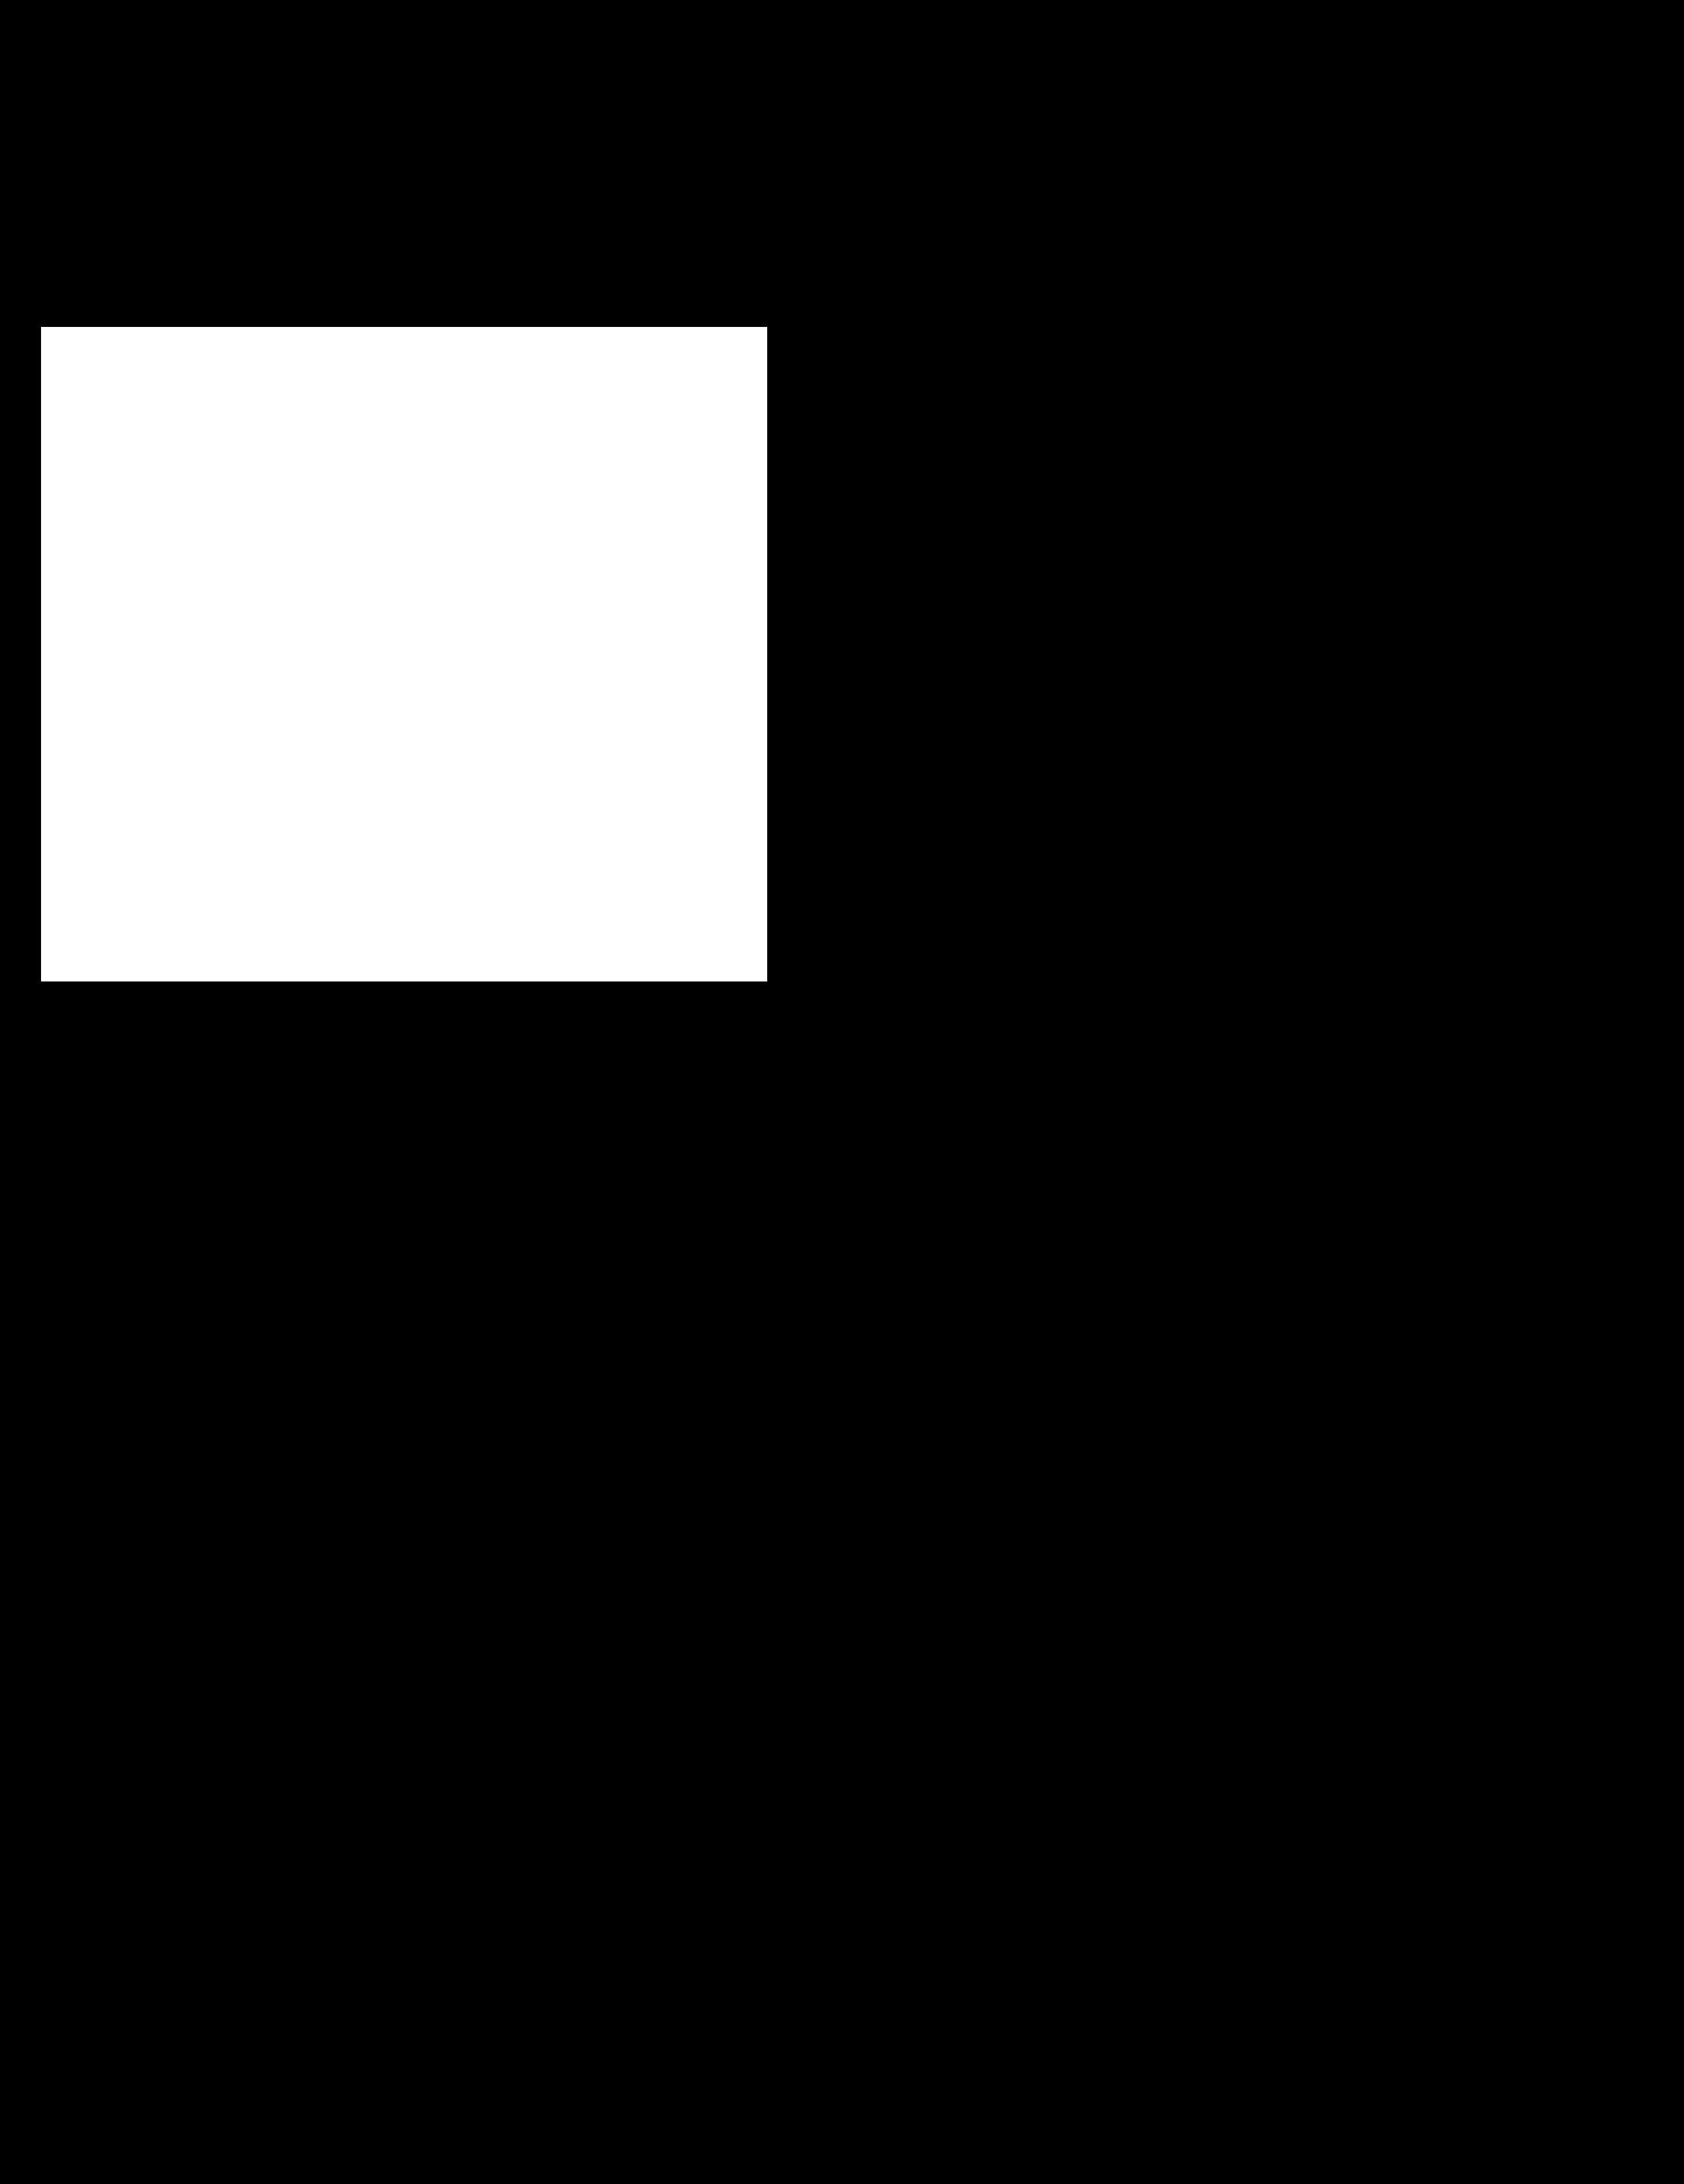table: (41, 327, 766, 981)
